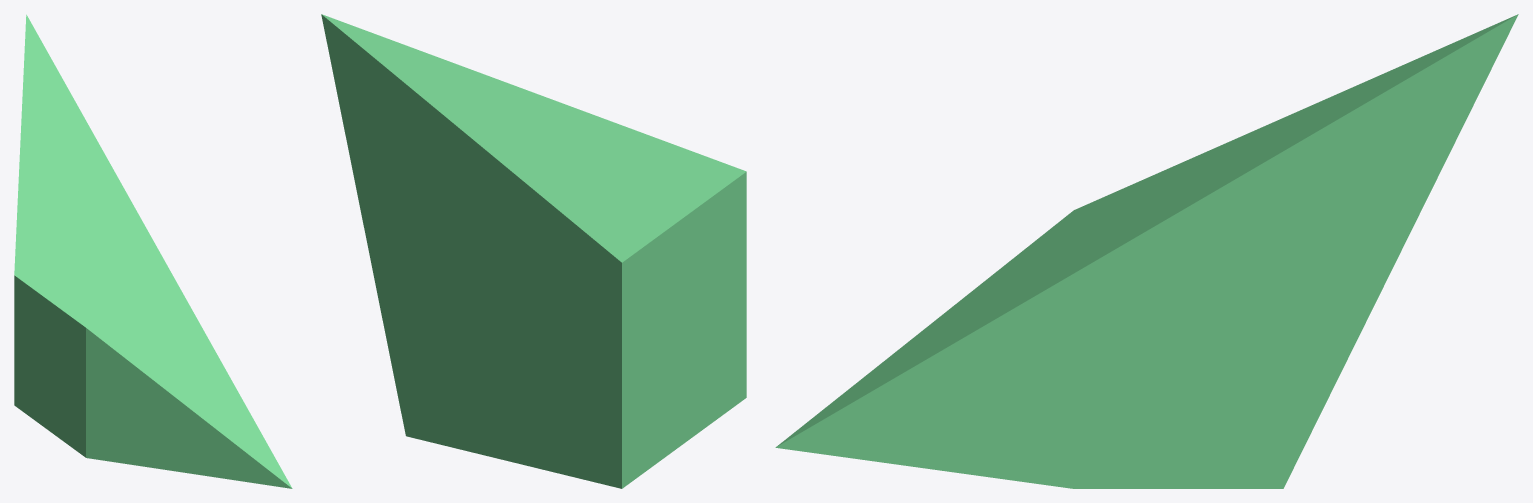
File: icone3.glb
3 views of the same model, side by side, from view 1: azimuth 30°, elevation 25°; view 2: azimuth 150°, elevation 25°; view 3: azimuth 270°, elevation 25° (orthographic). The views are drawn at different scales.
Parts seen in each view (by area): view 1: Cube; view 2: Cube; view 3: Cube.
Part boxes in pixels (box(x1,y1,x2,y2)): Cube: box(14, 14, 292, 488); Cube: box(321, 14, 746, 488); Cube: box(775, 14, 1518, 488).
Bounding box in the file's own units: 2 × 4.76 × 7.09.
